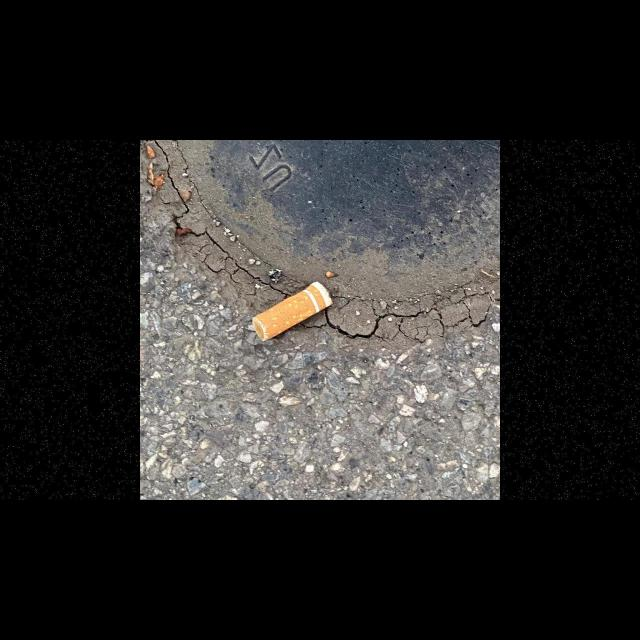cigarette: (252, 280, 334, 342)
